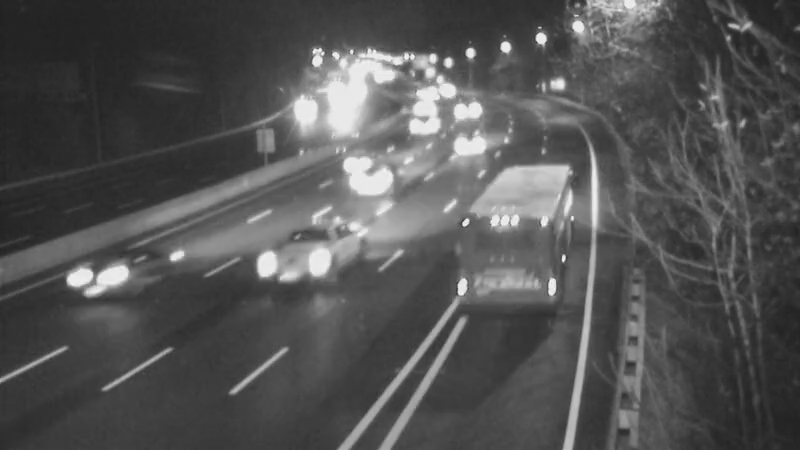vehicle: (316, 115, 396, 195), (328, 144, 408, 224), (469, 195, 549, 275), (260, 228, 340, 308), (58, 236, 138, 316), (392, 82, 442, 132), (439, 85, 489, 135), (403, 99, 453, 149), (443, 120, 493, 170), (280, 86, 330, 136)
